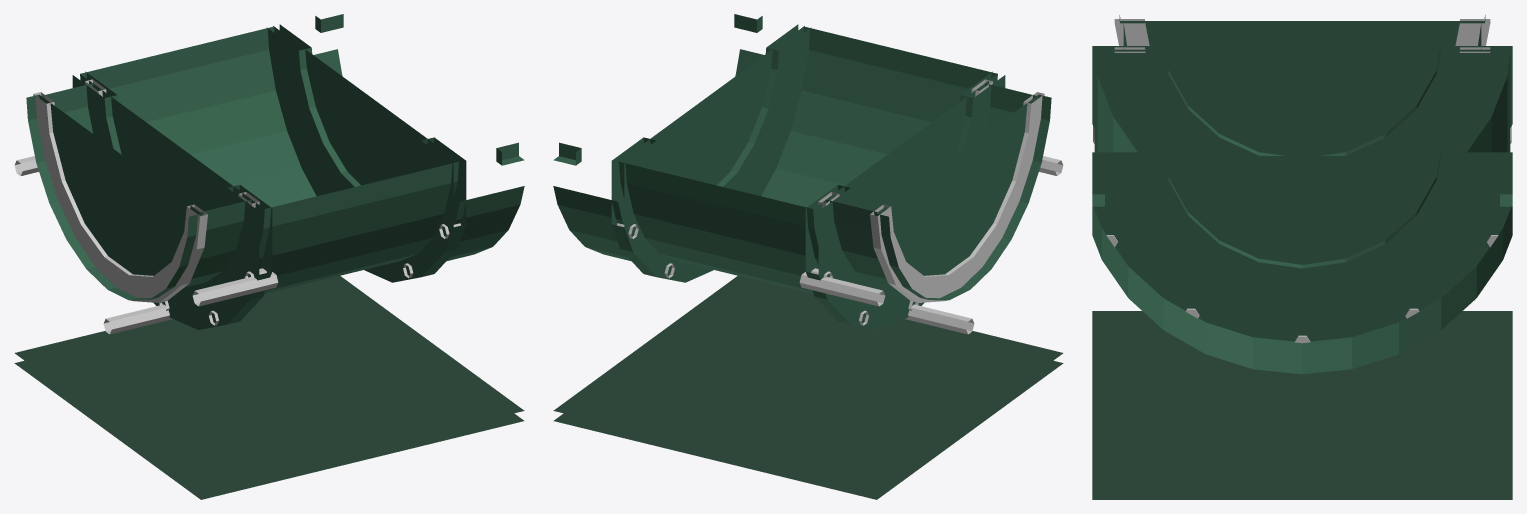
Rendered from cell_19.obj.
3 renders of one model, left to right at view 1: azimuth 30°, elevation 25°; view 2: azimuth 150°, elevation 25°; view 3: azimuth 270°, elevation 25°, orthographic. The views are drawn at different scales.
Bounding box in the file's own units: 1 × 0.81 × 1.
